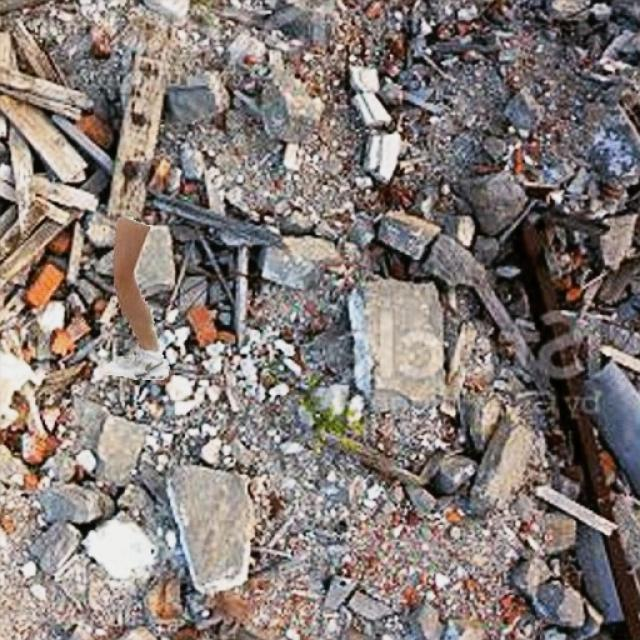Person in Rubble: (104, 218, 170, 378)
